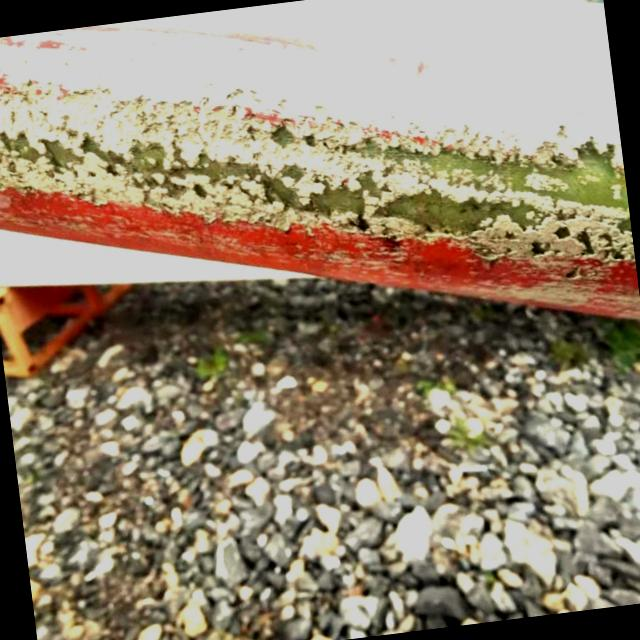corrosion: (0, 0, 627, 337)
